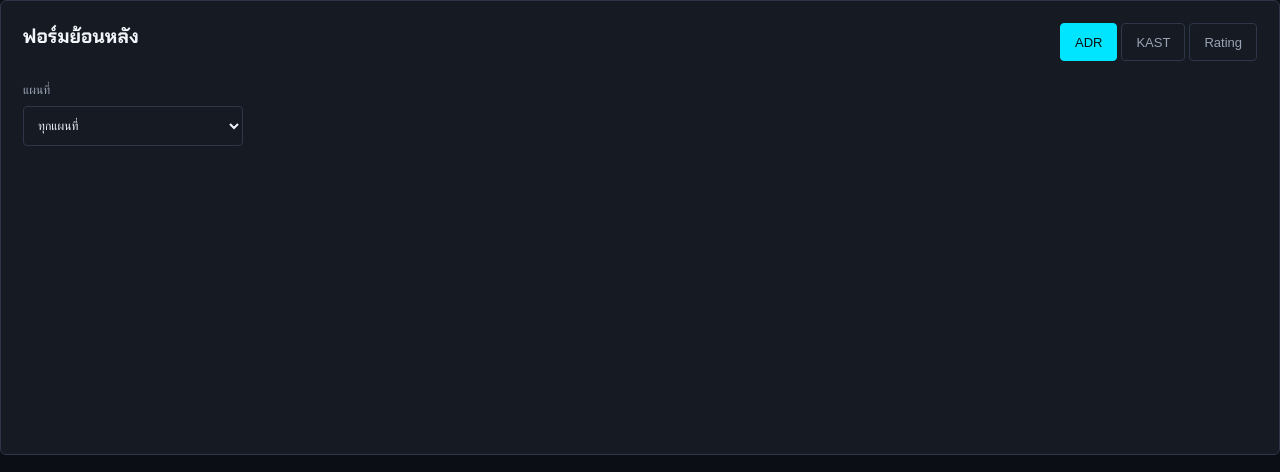
Test: player form chart controls and lifecycle › draws sorted values, retains zero, and updates the metric and map filter
Later steps or results of the test are not shown.
Click the button "KAST" at (1154, 42), box [1122,23,1186,61]
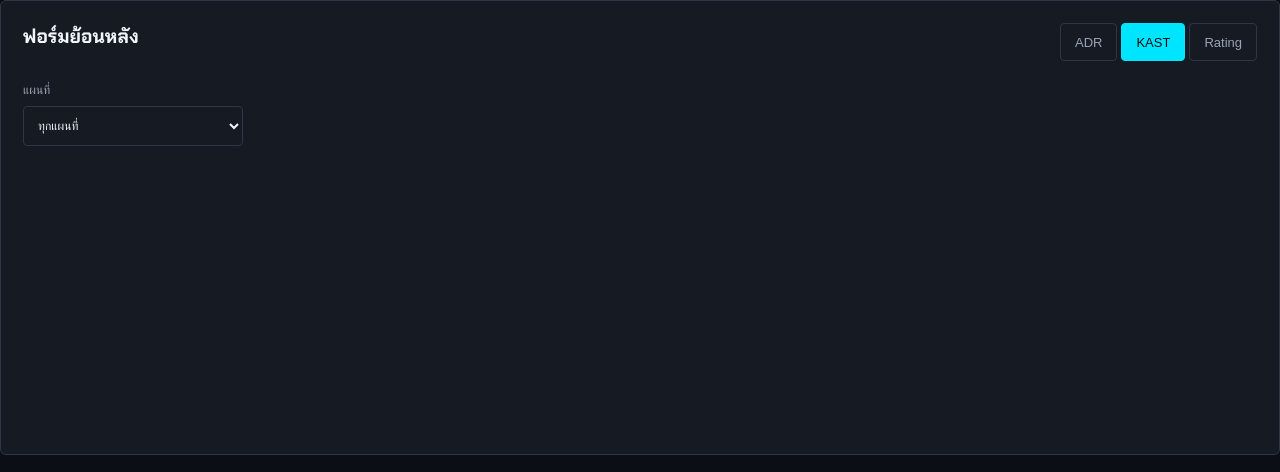
Check: the button "KAST" has attribute data-active="true", box [1122,23,1186,61]
Check: the button "ADR" has attribute data-active="false", box [1060,23,1118,61]
